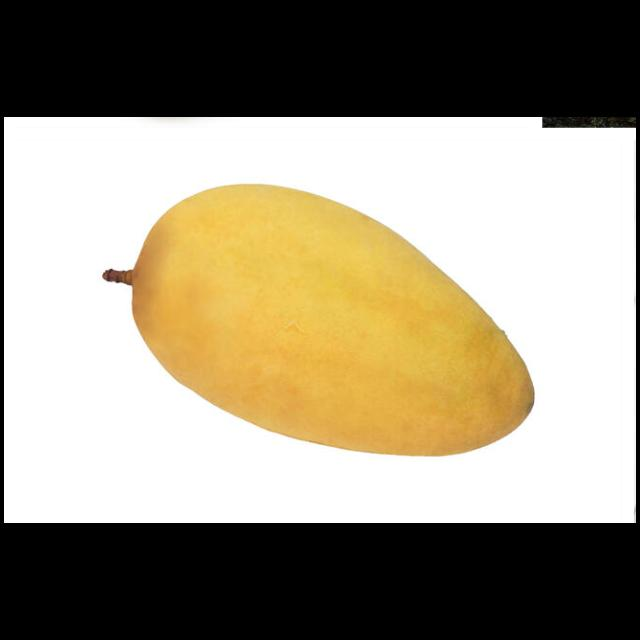mango: (131, 182, 537, 458)
